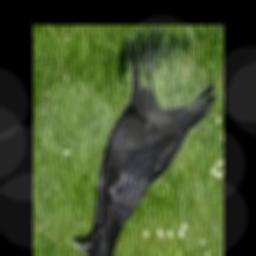Crow: (72, 42, 216, 256)
